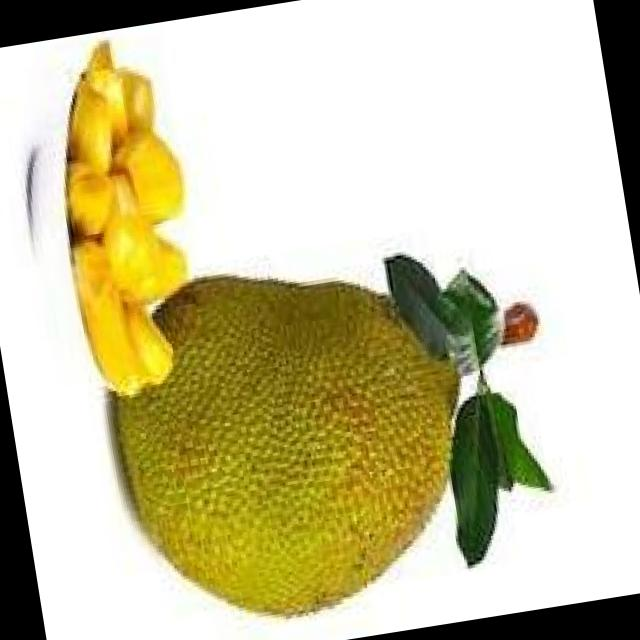Fruit: (59, 208, 520, 640)
